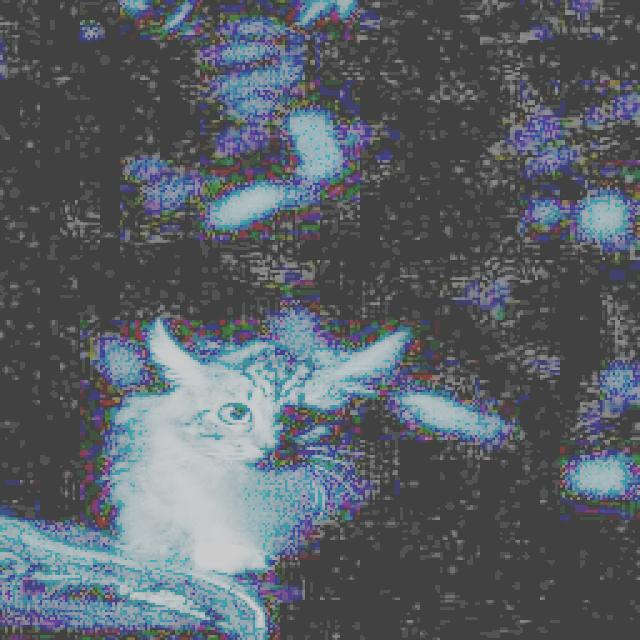cat: (64, 241, 586, 617)
